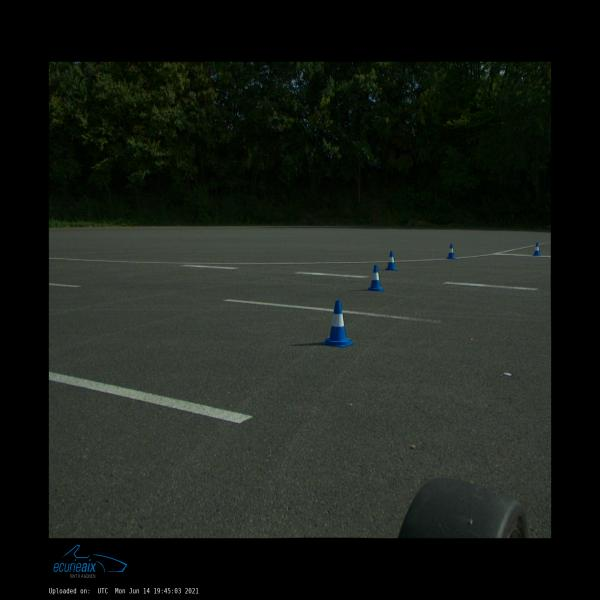blue_cone: (322, 300, 354, 348), (368, 264, 383, 292), (386, 251, 397, 270), (447, 244, 455, 259), (533, 242, 541, 255)
